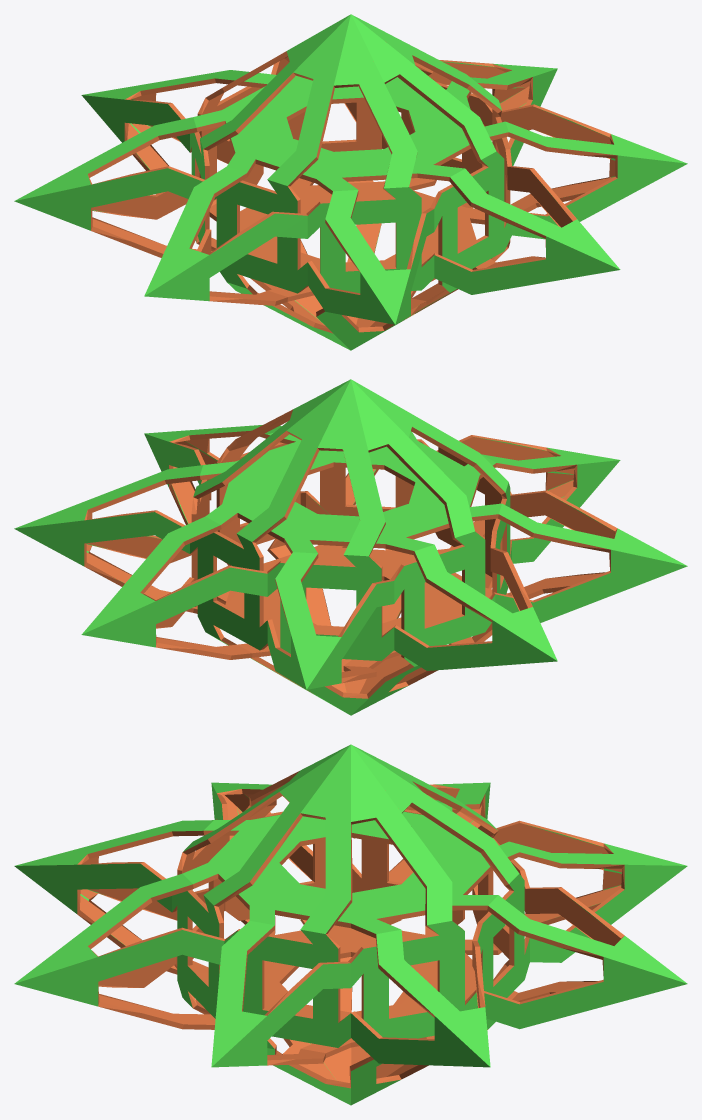
File: PrismicPolyknot8.glb
3 renders of one model, top to bottom at view 1: azimuth 30°, elevation 25°; view 2: azimuth 150°, elevation 25°; view 3: azimuth 270°, elevation 25°, orthographic. The views are drawn at different scales.
Parts seen in each view (by area): view 1: ESCHER_BBBa_PRISM8; view 2: ESCHER_BBBa_PRISM8; view 3: ESCHER_BBBa_PRISM8.
Part boxes in pixels (box(x1,y1,x2,y2)): ESCHER_BBBa_PRISM8: box(14, 14, 687, 350); ESCHER_BBBa_PRISM8: box(14, 379, 687, 715); ESCHER_BBBa_PRISM8: box(14, 744, 687, 1105).
Size of the model in its own units: 254 by 150 by 254.
